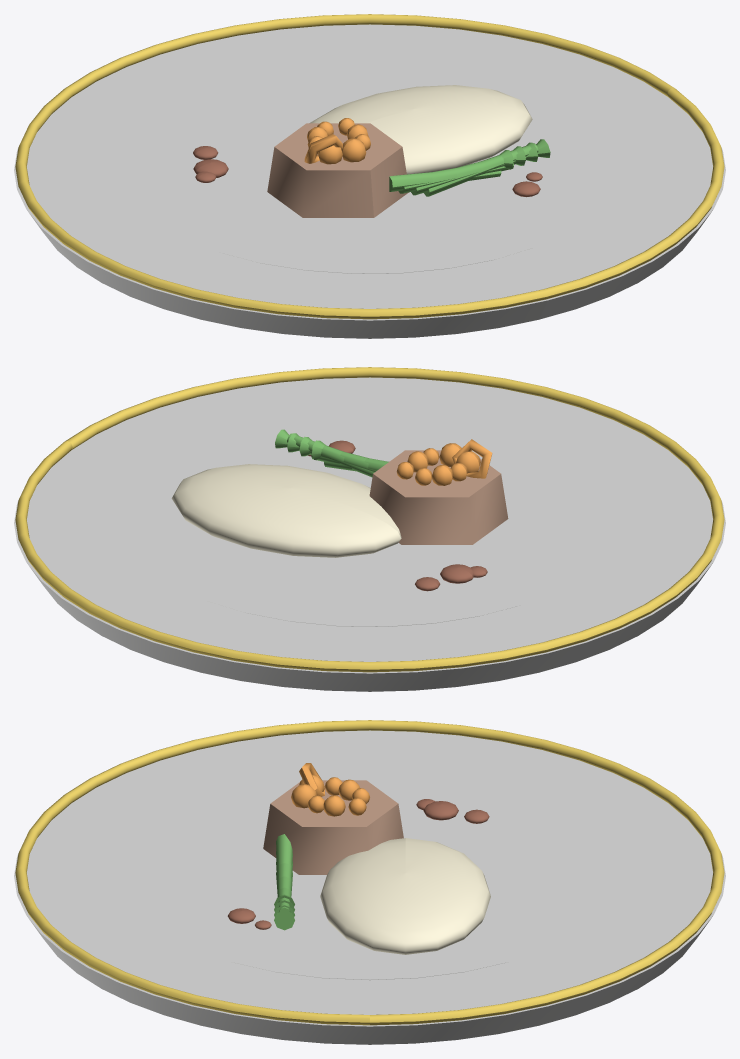
The model's file is signature-dish.glb.
3 views of the same model, one above another, from view 1: azimuth 30°, elevation 25°; view 2: azimuth 150°, elevation 25°; view 3: azimuth 270°, elevation 25° (orthographic).
Parts seen in each view (by area): view 1: Plate, Well, GoldRim, Puree, Protein, Vegetables, Garnish, Sauce, Flower; view 2: Plate, Well, GoldRim, Puree, Protein, Garnish, Vegetables, Sauce, Flower; view 3: Plate, Well, GoldRim, Puree, Protein, Garnish, Vegetables, Sauce.
Part boxes in pixels (x1,y1,x2,y2): Plate: (14,24,725,338); Well: (121,63,618,273); GoldRim: (15,14,724,319); Puree: (309,85,532,174); Protein: (267,123,408,217); Vegetables: (389,139,550,196); Garnish: (307,118,370,164); Sauce: (193,146,542,197); Flower: (304,134,342,163); Plate: (14,377,725,691); Well: (121,416,618,626); GoldRim: (15,367,724,672); Puree: (171,464,401,557); Protein: (369,450,508,544); Garnish: (396,443,480,485); Vegetables: (275,429,388,477); Sauce: (308,440,487,591); Flower: (452,439,492,478); Plate: (14,730,725,1044); Well: (121,769,618,980); GoldRim: (15,720,724,1025); Puree: (320,838,490,954); Protein: (263,780,403,874); Garnish: (291,774,369,816); Vegetables: (274,834,294,930); Sauce: (227,799,489,929).
Size of the model in its own units: 1 by 0.1573 by 1.
